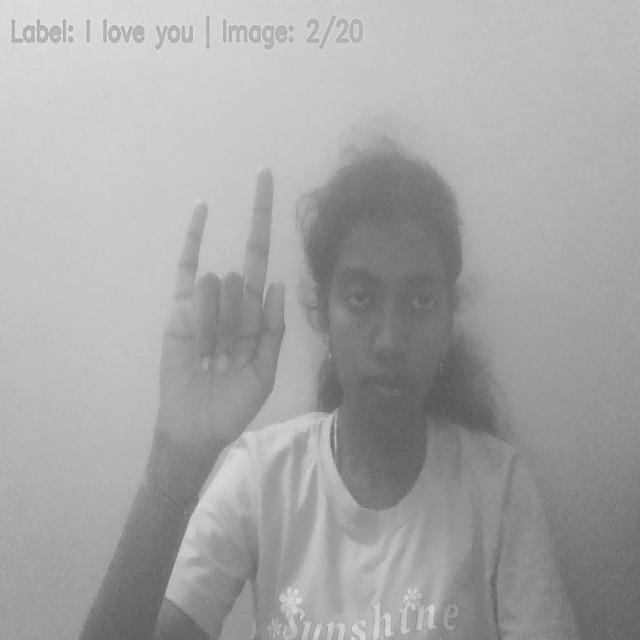I love you: (151, 167, 289, 449)
